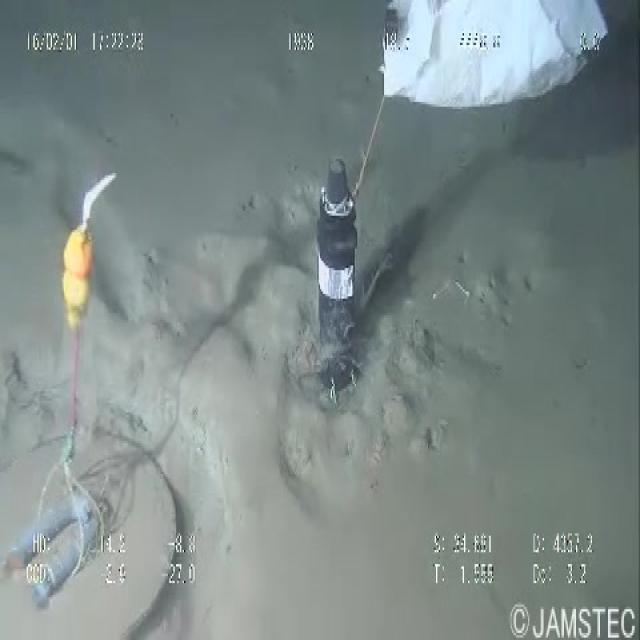plastic: (376, 0, 615, 119)
